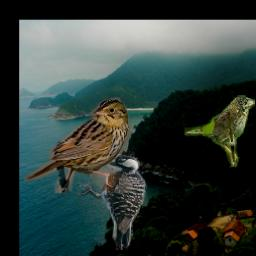Sparrow: (23, 97, 131, 193), (184, 95, 255, 168)
Woodpecker: (75, 156, 148, 251)
